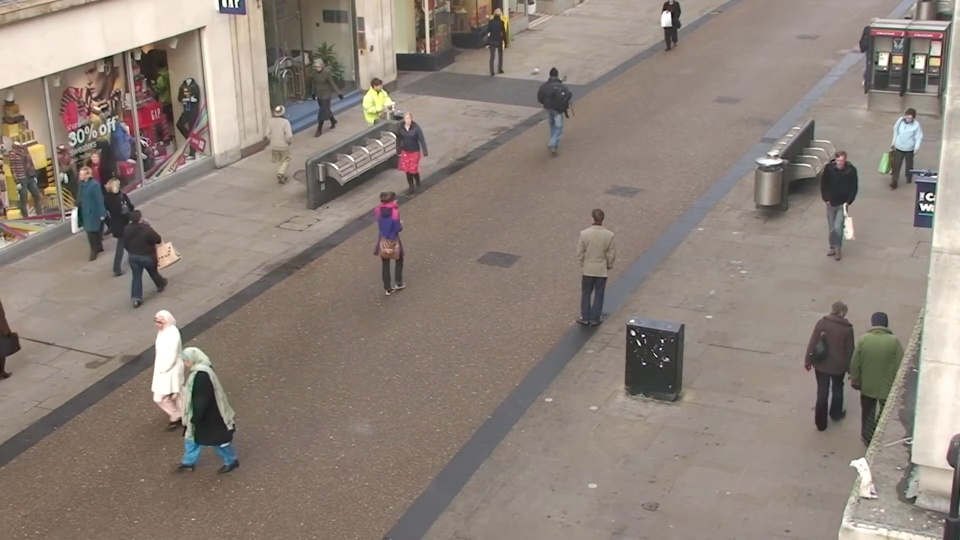pedestrian: (155, 339, 217, 490), (129, 306, 188, 449), (849, 299, 906, 445), (812, 289, 867, 431), (125, 196, 173, 311), (59, 169, 109, 276), (104, 168, 151, 275), (72, 151, 119, 253), (578, 204, 617, 324), (376, 181, 416, 295), (813, 155, 855, 262), (879, 106, 923, 203), (388, 114, 421, 208), (270, 98, 304, 187), (365, 74, 395, 158), (851, 15, 884, 89), (300, 58, 330, 137), (544, 59, 572, 139), (490, 7, 513, 72)
